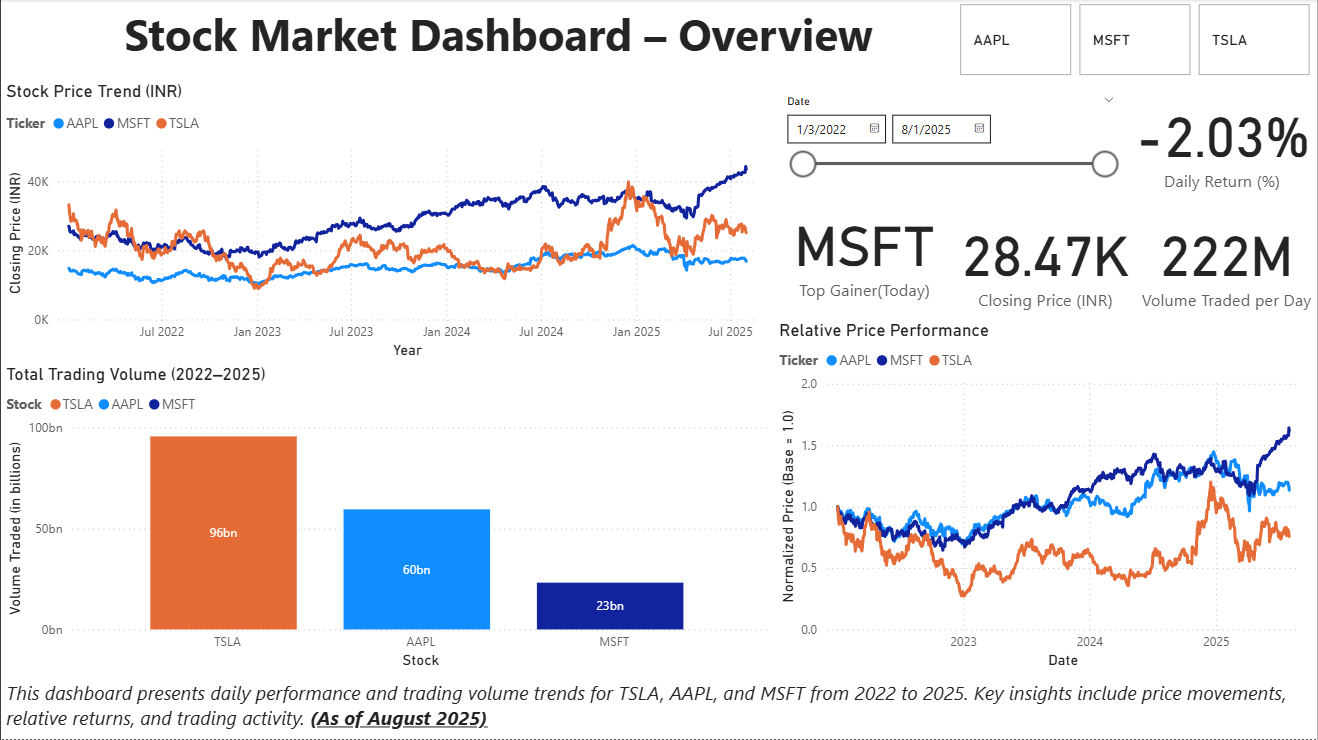

This screenshot's page, from the dashboard's own definition file:
{"tool":"powerbi","page":{"name":"Page 1","canvas":[1280,720],"ordinal":0},"visuals":[{"type":"lineChart","title":"Stock Price Trend (INR)","fields":{"Series":["stock_data_all.Ticker"],"Y":["Avg(stock_data_all.Close_INR)"],"Category":["DateTable.Date.Variation.Date Hierarchy.Year","DateTable.Date.Variation.Date Hierarchy.Quarter","DateTable.Date.Variation.Date Hierarchy.Month","DateTable.Date.Variation.Date Hierarchy.Day"]},"box":[0,79.8,751.9,275.3],"z":0},{"type":"card","fields":{"Values":["stock_data_all.LatestClose"]},"box":[927.9,196.5,176,115.7],"z":1000},{"type":"card","fields":{"Values":["stock_data_all.LatestDailyReturn"]},"box":[1095.2,79.8,184.8,116.7],"z":2000},{"type":"card","fields":{"Values":["stock_data_all.LatestVolume"]},"box":[1104,196.5,176,115.7],"z":3000},{"type":"columnChart","title":"Total Trading Volume (2022–2025)","fields":{"Category":["stock_data_all.Ticker"],"Y":["Sum(stock_data_all.Volume)"],"Series":["stock_data_all.Ticker"]},"box":[0,355,751.9,301.5],"z":4000},{"type":"slicer","fields":{"Values":["DateTable.Date"]},"box":[751.9,88.5,343.3,98.2],"z":5000},{"type":"advancedSlicerVisual","fields":{"Values":["stock_data_all.Ticker"]},"box":[927.9,0,352.1,79.8],"z":6000},{"type":"card","fields":{"Values":["stock_data_all.TopGainer"]},"box":[751.9,186.7,176,115.7],"z":7000},{"type":"textbox","box":[0,0,927.9,79.8],"z":8000},{"type":"lineChart","title":"Relative Price Performance","fields":{"Y":["Avg(stock_data_all.NormalizedClose)"],"Category":["stock_data_all.Date"],"Series":["stock_data_all.Ticker"]},"box":[751.9,312.2,528.1,344.3],"z":9000},{"type":"textbox","box":[0,656.5,1280,63.2],"z":10000}]}

Visuals, with their boxes in screenshot pixels (x1, y1, x2, y2), scaled from the page's 1280x720 canvas onto the 1318x740 screenshot:
"Stock Price Trend (INR)" lineChart: x1=0 y1=82 x2=774 y2=365
card - stock_data_all.LatestClose: x1=955 y1=202 x2=1137 y2=321
card - stock_data_all.LatestDailyReturn: x1=1128 y1=82 x2=1317 y2=202
card - stock_data_all.LatestVolume: x1=1137 y1=202 x2=1317 y2=321
"Total Trading Volume (2022–2025)" columnChart: x1=0 y1=365 x2=774 y2=675
slicer - DateTable.Date: x1=774 y1=91 x2=1128 y2=192
advancedSlicerVisual - stock_data_all.Ticker: x1=955 y1=0 x2=1317 y2=82
card - stock_data_all.TopGainer: x1=774 y1=192 x2=955 y2=311
textbox: x1=0 y1=0 x2=955 y2=82
"Relative Price Performance" lineChart: x1=774 y1=321 x2=1317 y2=675
textbox: x1=0 y1=675 x2=1317 y2=739
